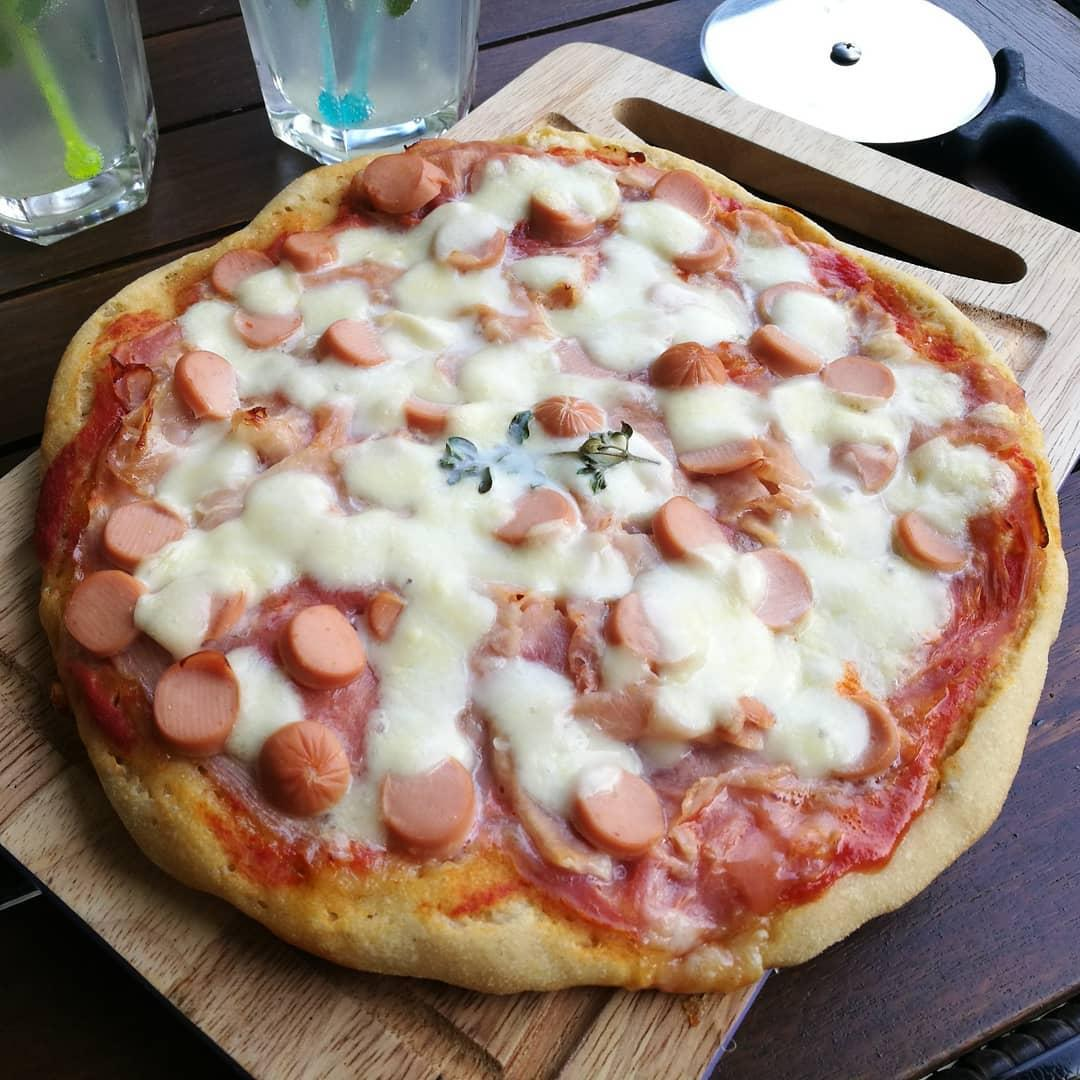Cheese: (668, 601, 907, 742), (221, 489, 486, 571), (413, 283, 625, 373), (373, 608, 515, 740), (347, 361, 453, 463)
Ham: (255, 722, 355, 823), (501, 588, 627, 668), (153, 653, 241, 764), (681, 441, 795, 522), (61, 568, 150, 666), (575, 764, 663, 858), (650, 486, 735, 574), (280, 606, 371, 686), (513, 188, 615, 257), (386, 758, 465, 842), (90, 495, 193, 558), (738, 553, 815, 634), (173, 346, 245, 425), (756, 280, 819, 369), (365, 151, 439, 223), (891, 509, 968, 578), (830, 428, 901, 489), (501, 491, 568, 551), (648, 341, 727, 385), (320, 306, 387, 357), (831, 356, 897, 405), (649, 183, 726, 223), (207, 240, 265, 289), (533, 395, 603, 433), (237, 317, 312, 346), (288, 233, 339, 263)
Pizza: (40, 120, 1069, 962)
